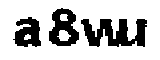8: (46, 5, 82, 51)
a: (16, 18, 42, 50)
u: (122, 15, 149, 51)
w: (81, 16, 121, 51)
